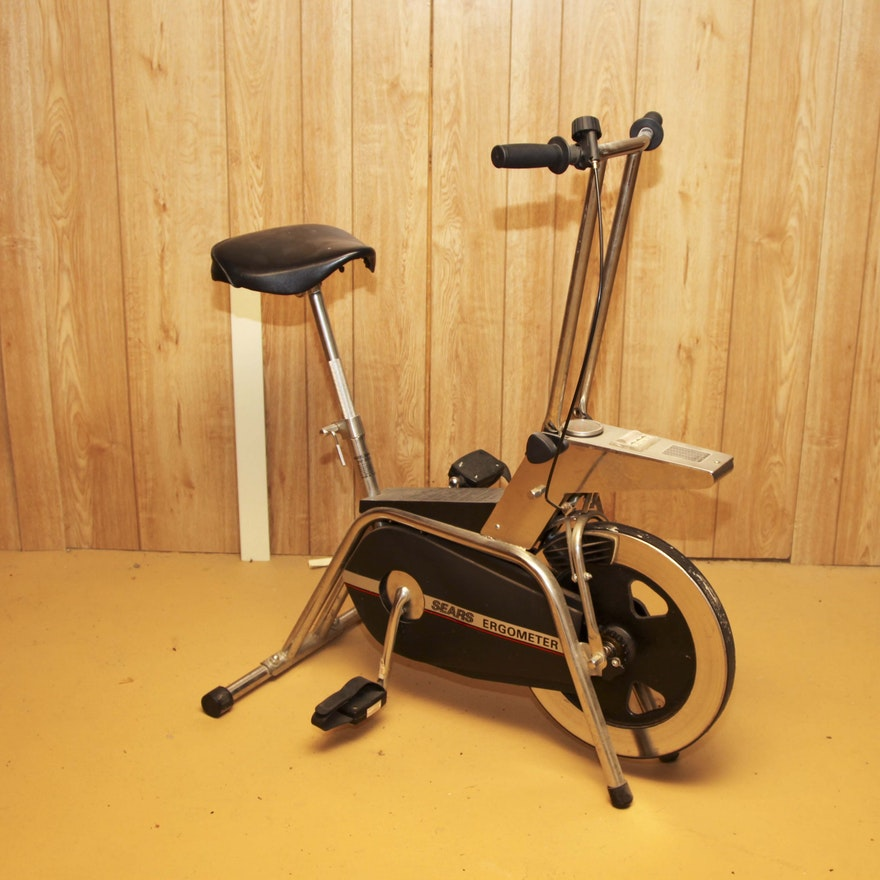gym_bike: (154, 113, 751, 806)
